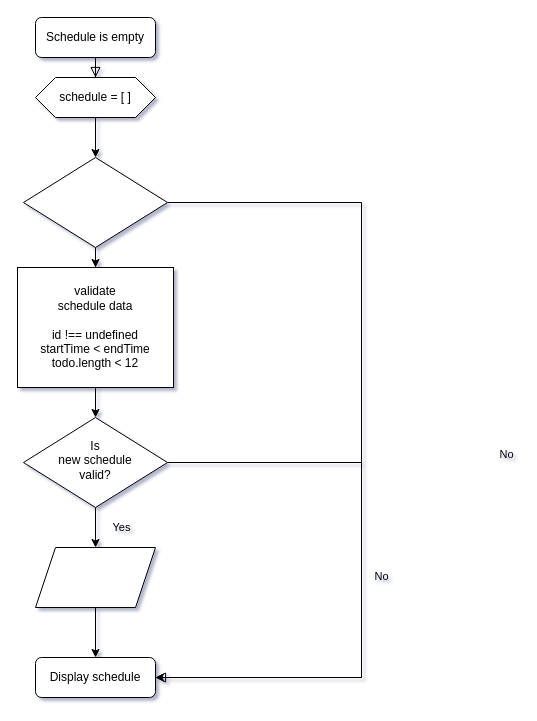
Some shapes in this 537 by 721 pixel diagram are drawn without their labels. The centre of each missing label's shape, as x and y in pixels:
"Insert new schedule" goes at [95,577].
"Is there a new schedule?" goes at [95,202].
